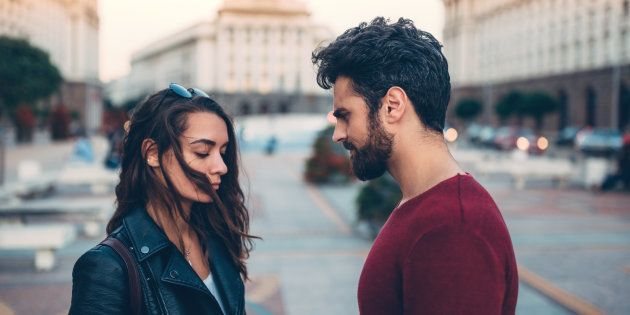without_mask: (325, 77, 405, 184), (167, 113, 230, 212)
